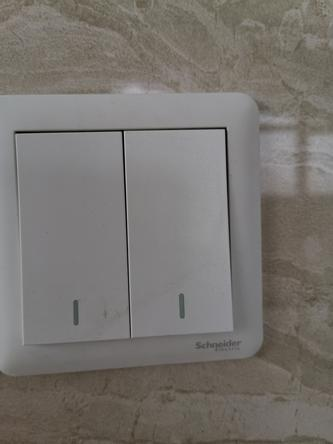switch: (9, 123, 143, 347), (117, 122, 243, 341)
